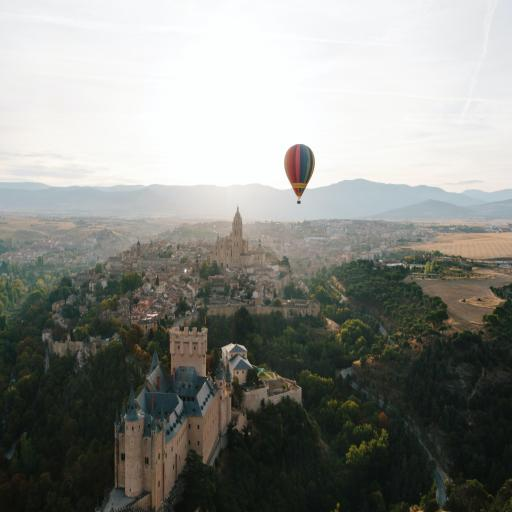hot air ballon: (285, 144, 315, 204)
